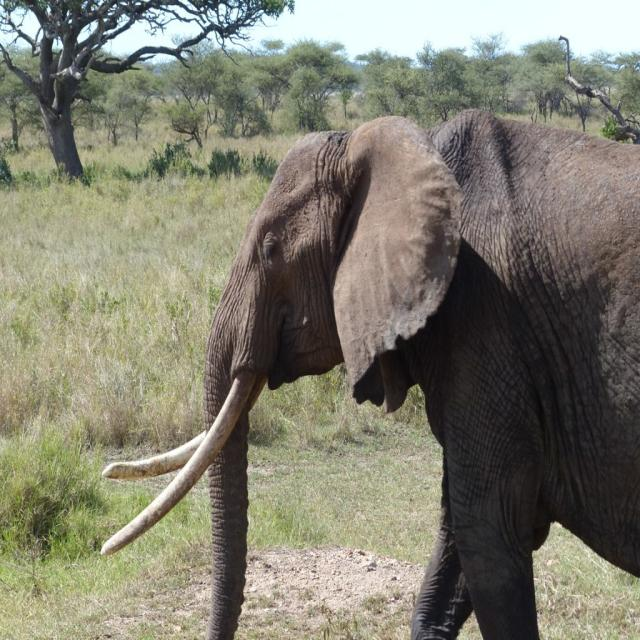Elephant: (104, 119, 614, 635)
